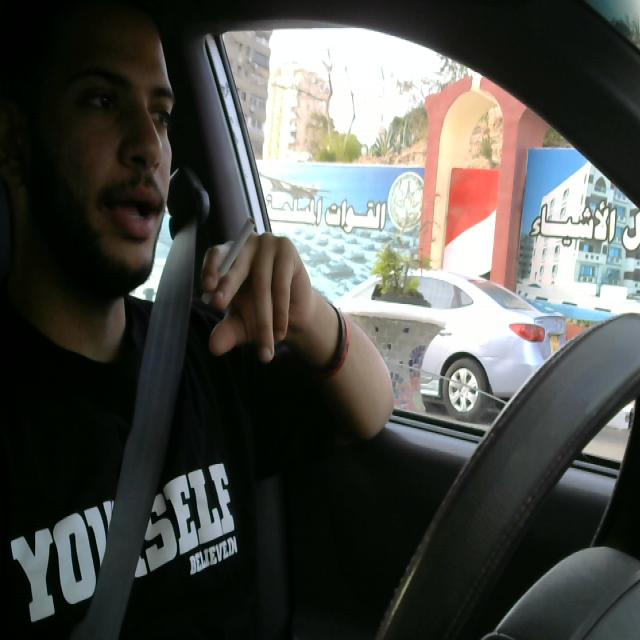smoking: (198, 219, 257, 305)
